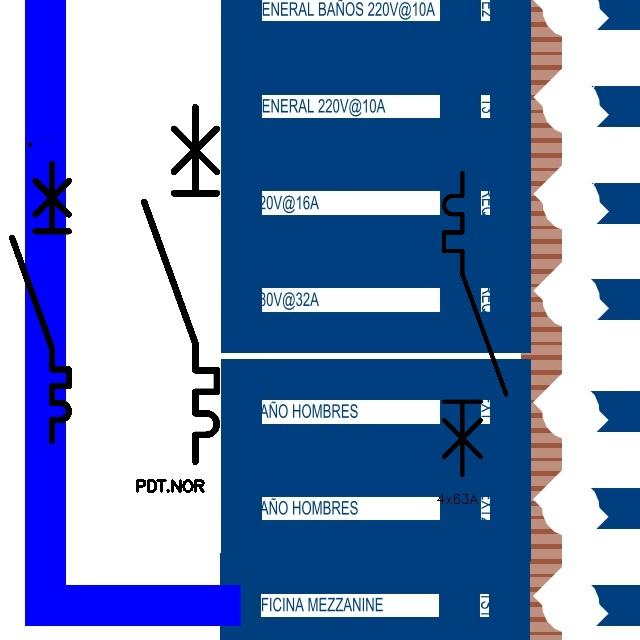interruptor_termomagnetico: (135, 98, 226, 471), (436, 165, 514, 483), (5, 156, 76, 447)
